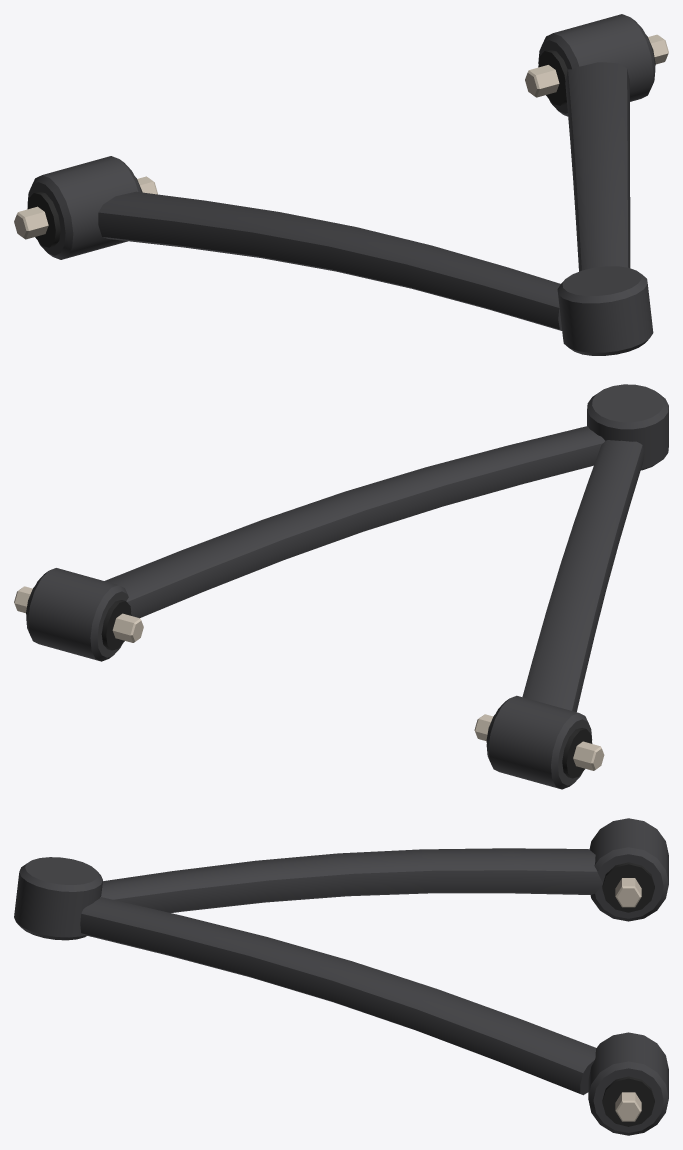
File: SM_Susp_FR_UpperArm.fbx
The picture shows the model from 3 angles, top to bottom: view 1: azimuth 30°, elevation 25°; view 2: azimuth 150°, elevation 25°; view 3: azimuth 270°, elevation 25°; orthographic projection. The views are drawn at different scales.
Parts seen in each view (by area): view 1: Export_Susp_FR_UpperArm; view 2: Export_Susp_FR_UpperArm; view 3: Export_Susp_FR_UpperArm.
Boxes of the visible parts, x1,y1,x2,y2 form: Export_Susp_FR_UpperArm: [14, 14, 668, 355]; Export_Susp_FR_UpperArm: [14, 384, 668, 789]; Export_Susp_FR_UpperArm: [14, 818, 668, 1135].
Size of the model in its own units: 0.3729 by 0.3903 by 0.0846.
